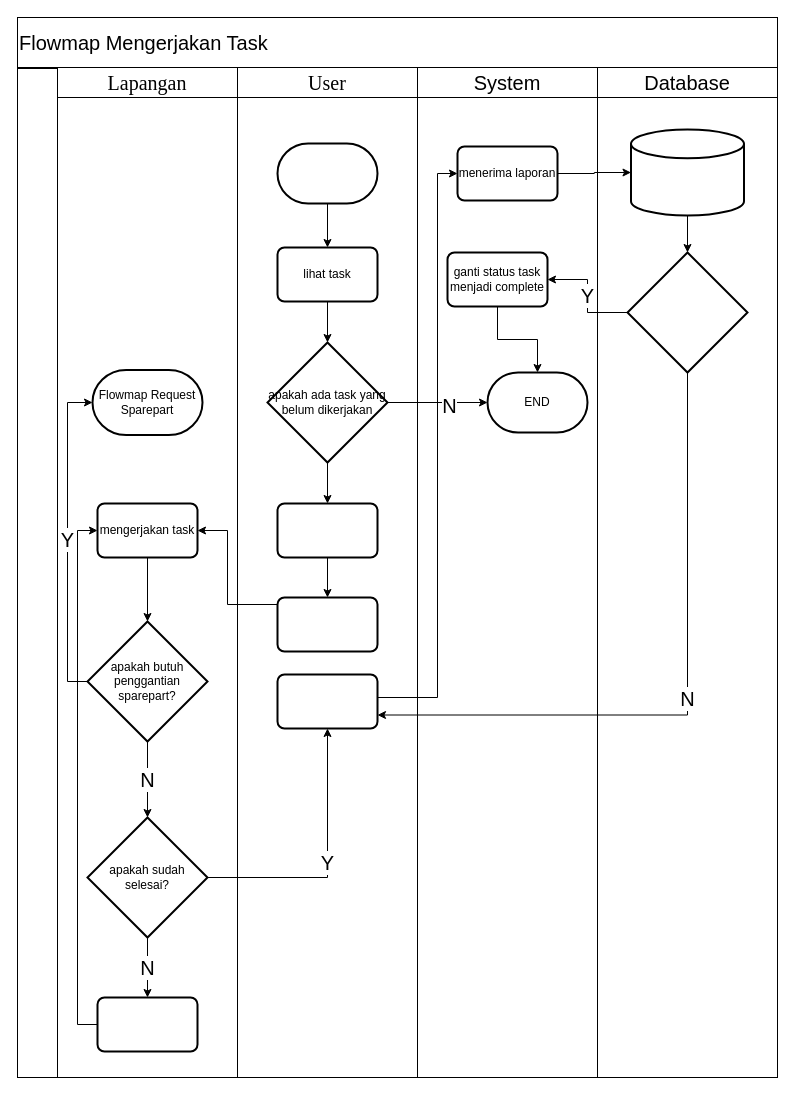
The diagram is 795 pixels wide and 1103 high, and some of its shapes have lost their labels. The box of each missing label's shape, as (x1, y1, x2, y2) in pixels:
Aproval manajer &GM: (626, 251, 748, 373)
input laporan: (276, 673, 378, 729)
input progres: (96, 996, 198, 1052)
kirimkan task ke lapangan: (276, 596, 378, 652)
masukkan data laporan ke database: (630, 128, 744, 216)
pilih task yang akan dikerjakan: (276, 502, 378, 558)
Start: (276, 142, 378, 204)
